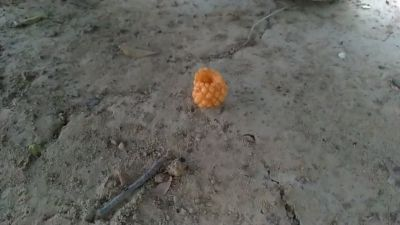eggs: (194, 64, 230, 116)
